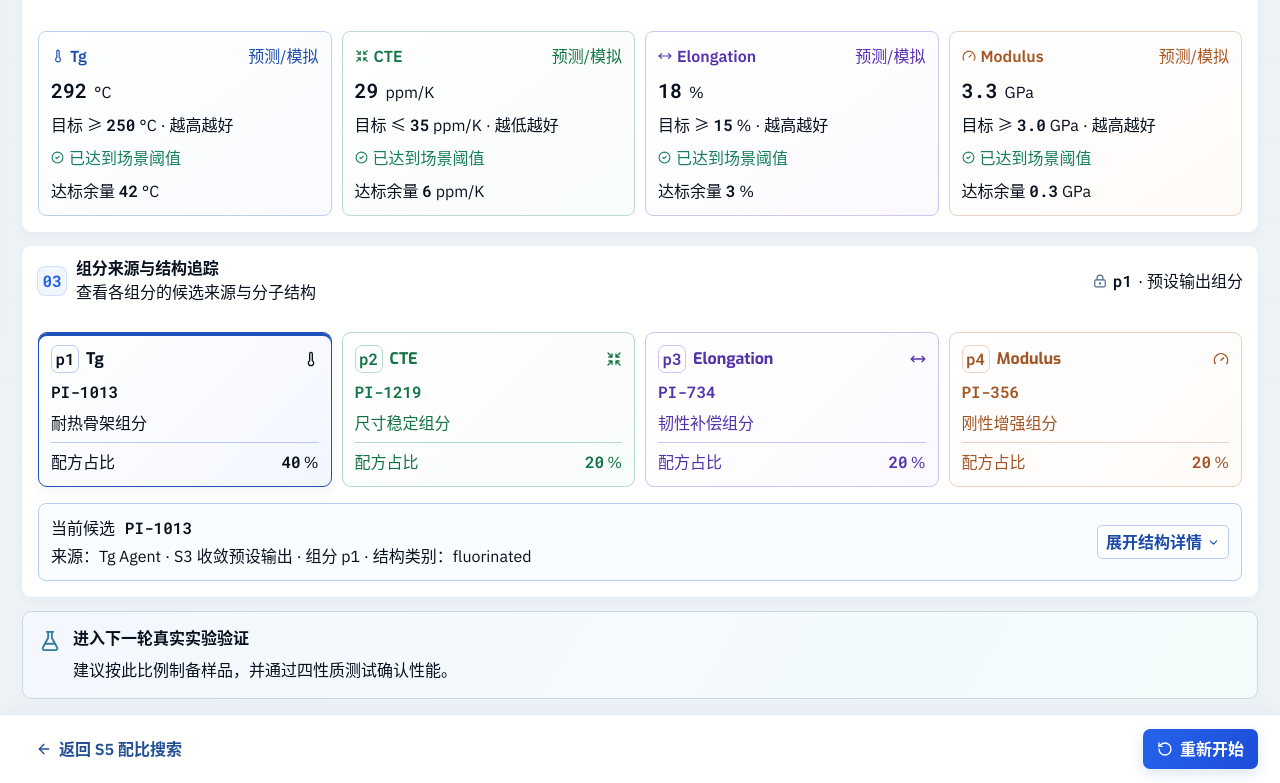
it: S6 最终解释工作台 › 组分支持方向键、Home/End，切换保留结构展开并更新来源
(page scrolled)
Click the button "展开结构详情". click: (1163, 542)
box: left=1097, top=525, right=1229, bottom=559
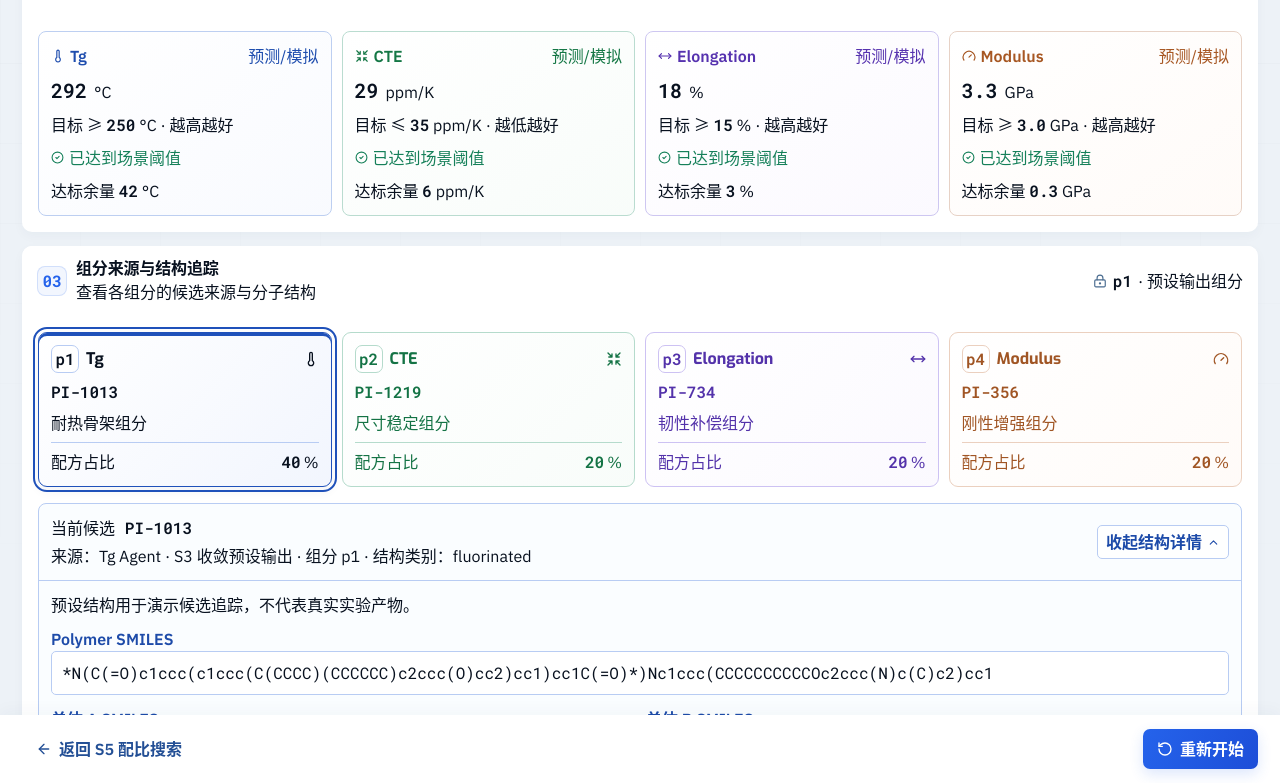
Press ArrowRight in the tab with aria-label "p1 Tg 来源", box left=38, top=332, right=332, bottom=487
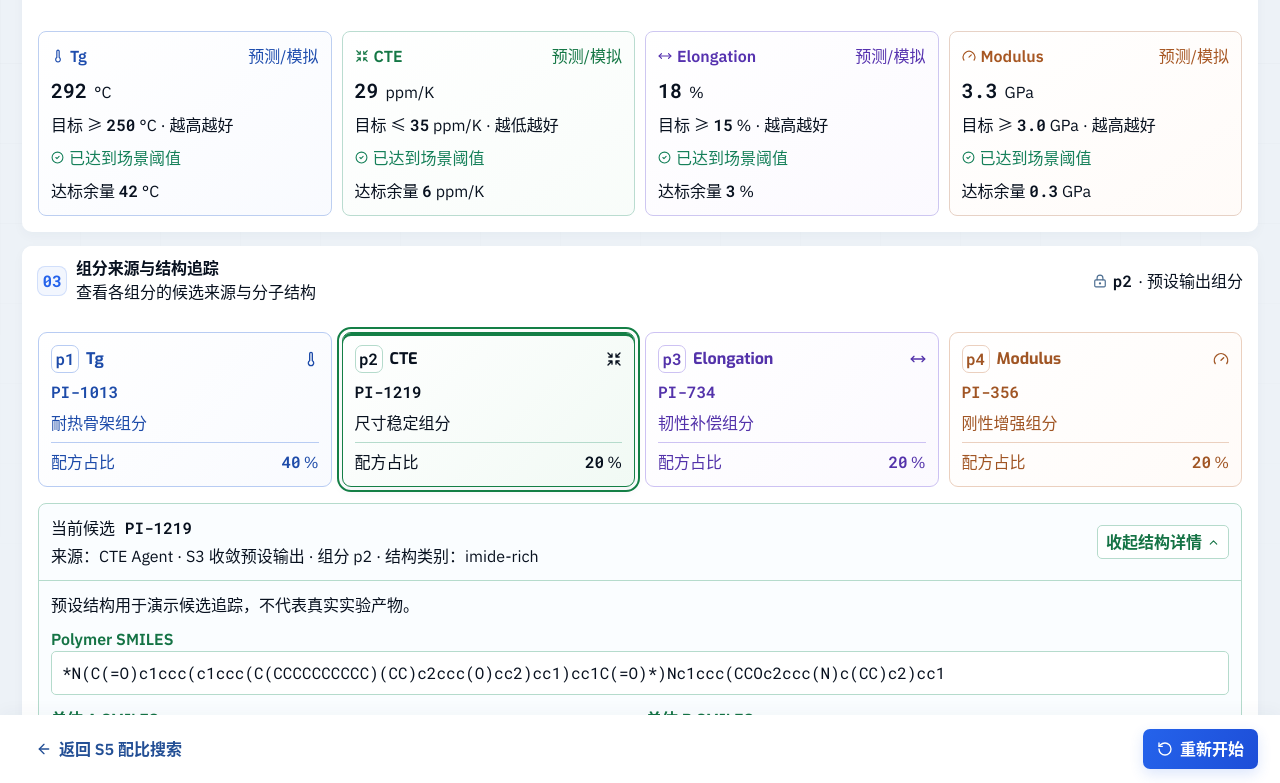
expect the button "收起结构详情" is expanded: met, box left=1097, top=525, right=1229, bottom=559
expect the panel shows "PI-1219": met, box left=125, top=517, right=192, bottom=538
Press End in the tab with aria-label "p2 CTE 来源", box left=342, top=332, right=635, bottom=487
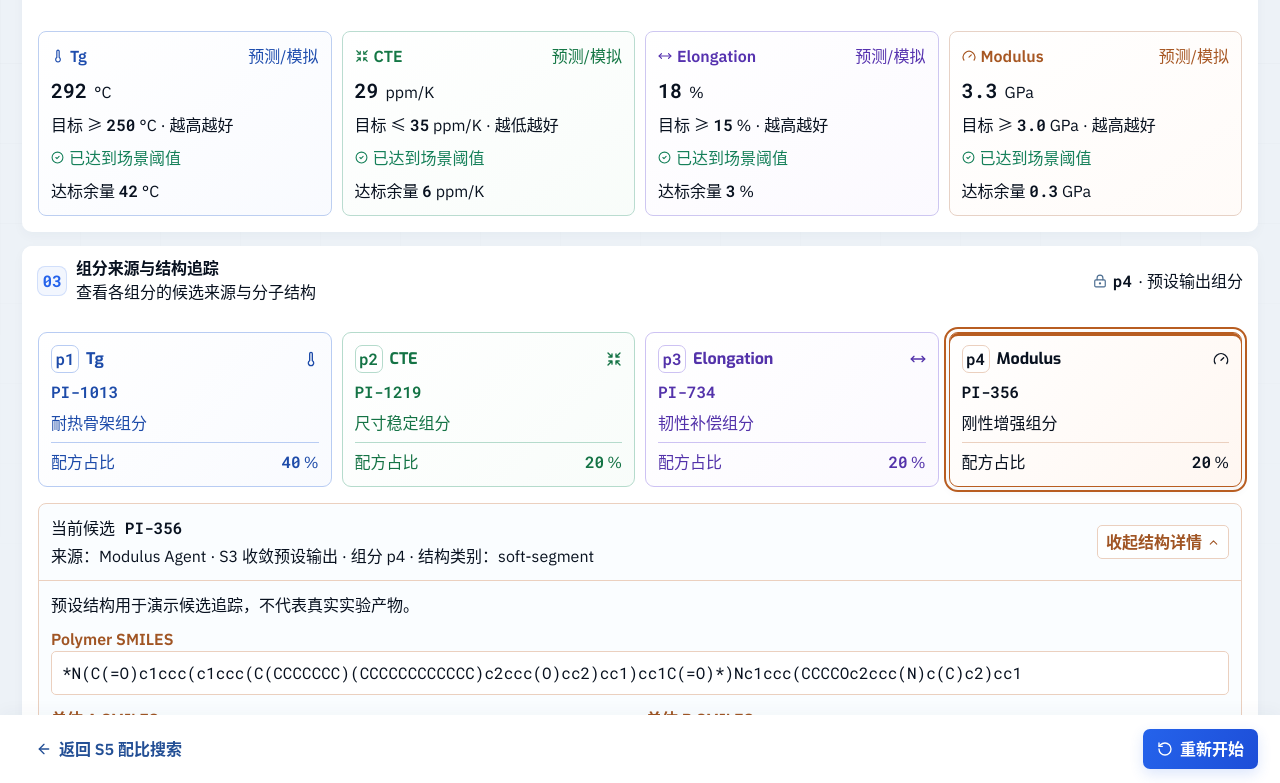
expect the panel shows "PI-356": met, box left=125, top=517, right=182, bottom=538
Press Home in the tab "p4 Modulus PI-356 刚性增强组分 配方占比 20 %", box left=948, top=332, right=1242, bottom=487
(page scrolled)
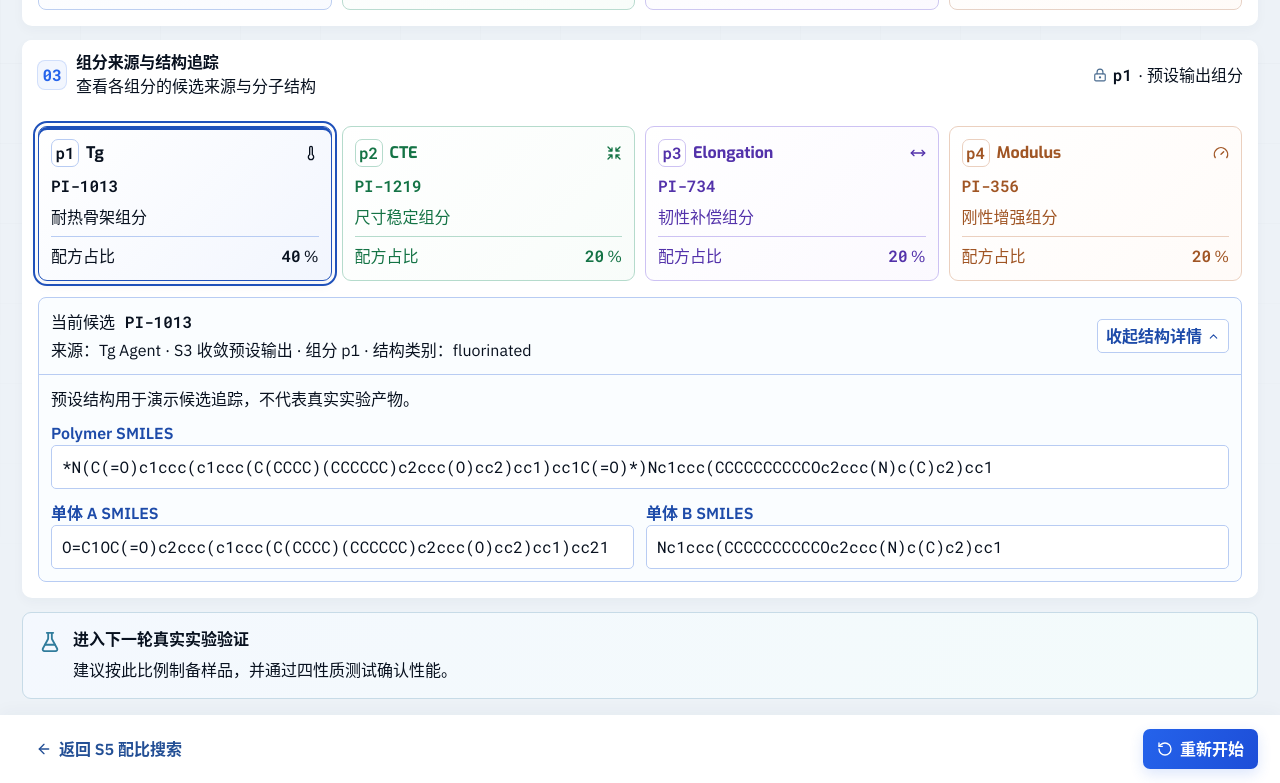
expect the panel shows "PI-1013": met, box left=125, top=311, right=192, bottom=332
expect the panel shows "Tg Agent · S3 收敛预设输出": met, box left=99, top=340, right=360, bottom=360
